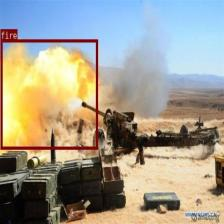fire: (0, 39, 98, 149)
